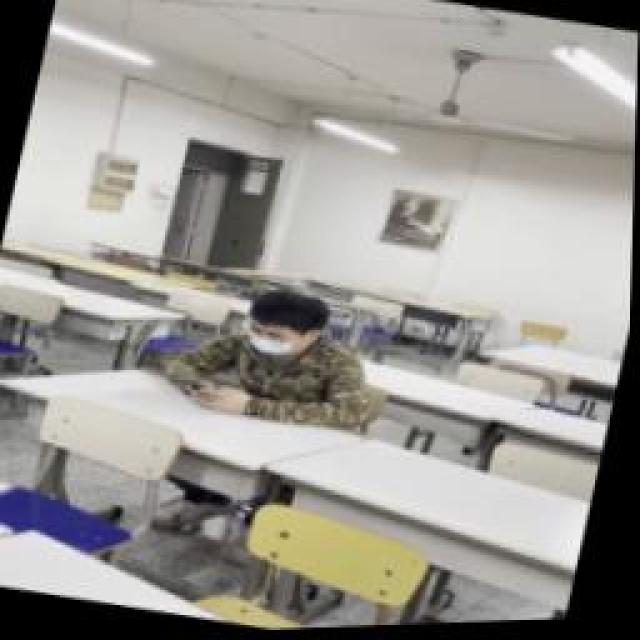phone: (150, 270, 392, 442)
